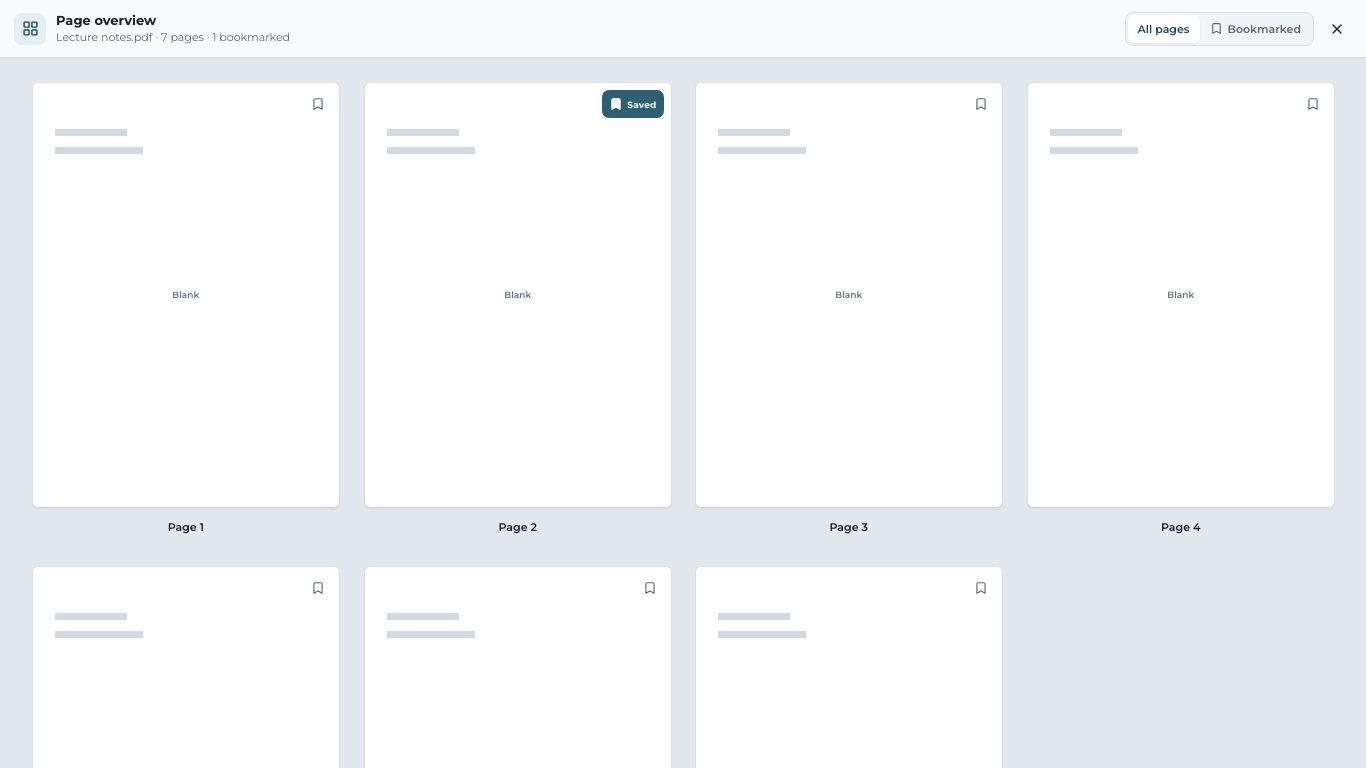
PageOverview › filters the overview to bookmarked pages without changing their page numbers
Click the button "Bookmarked" at (1255, 28), box [1200,14,1311,42]
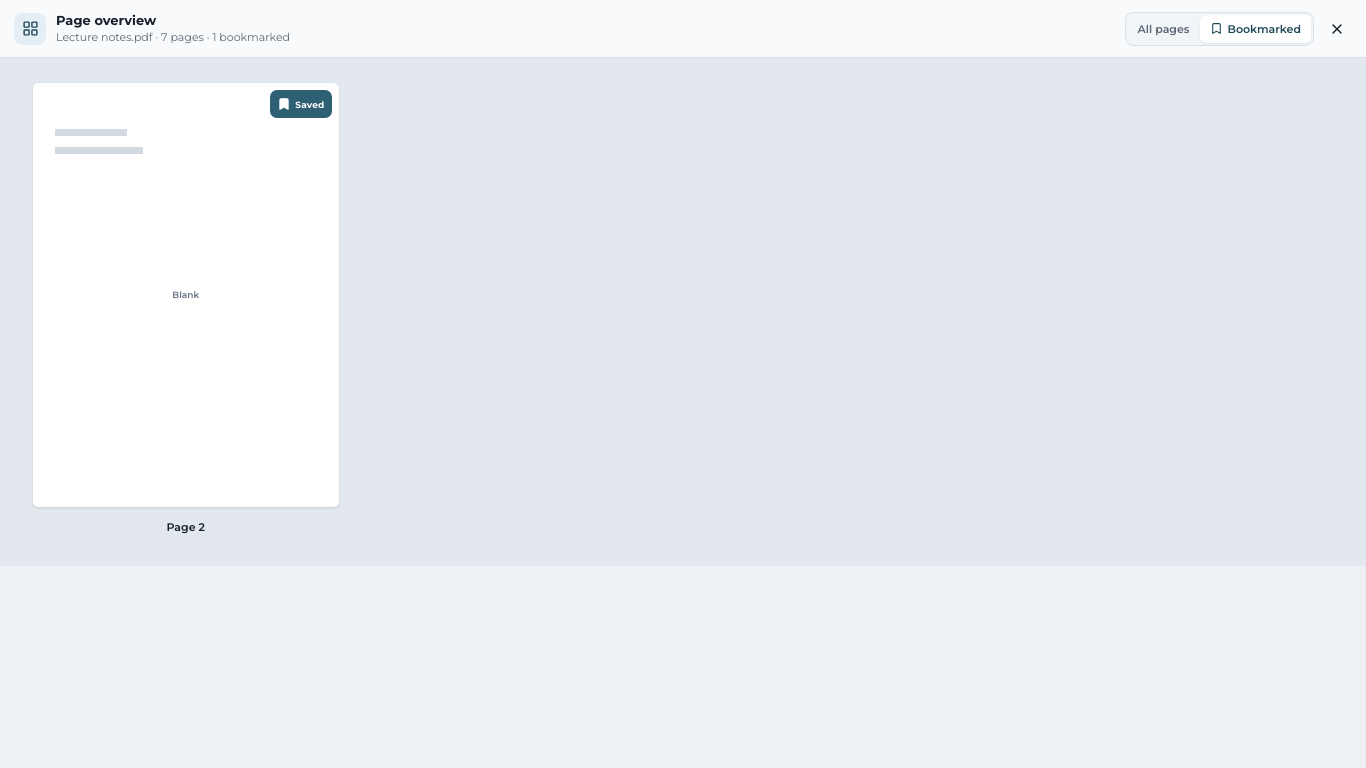
Expected: the button with aria-label "Open page 2" is shown, [32,82,340,508]
Expected: the number of list items is 1, [32,82,340,534]
Click the button "All pages" at (1164, 28), box [1128,14,1200,42]
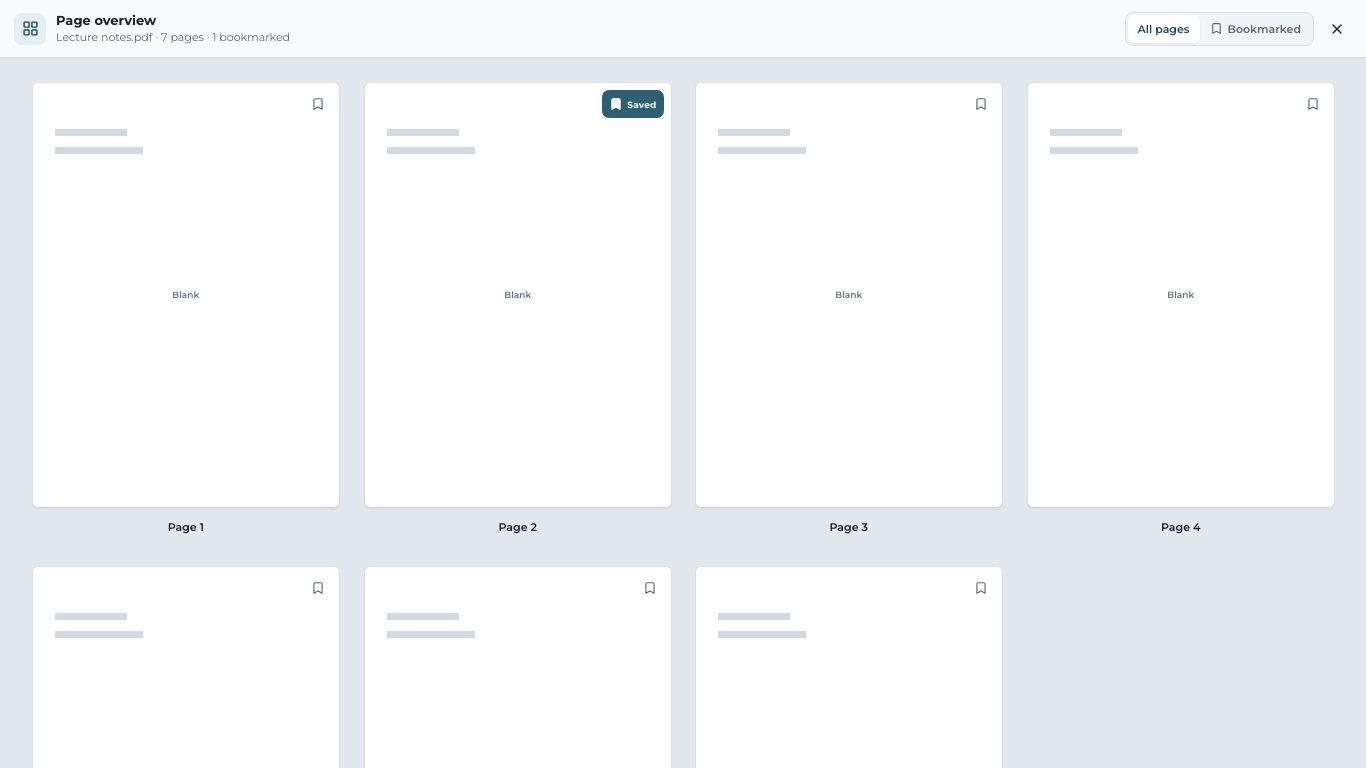
Expected: the number of list items is 7
